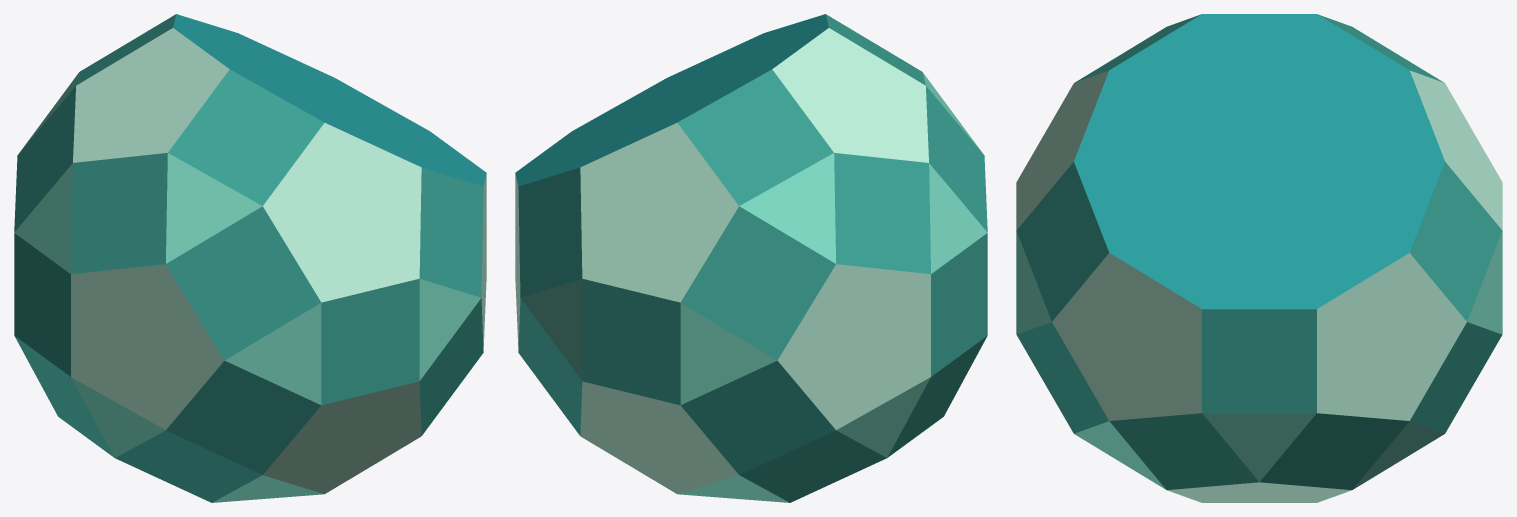
File: J77.RombicosidodecaedroParagiroideDisminuido.gltf
3 views of the same model, side by side, from view 1: azimuth 30°, elevation 25°; view 2: azimuth 150°, elevation 25°; view 3: azimuth 270°, elevation 25° (orthographic).
Visible parts, largest first — view 1: J77.RombicosidodecaedroParagiroideDisminuido; view 2: J77.RombicosidodecaedroParagiroideDisminuido; view 3: J77.RombicosidodecaedroParagiroideDisminuido.
Part boxes in pixels (x1,y1,x2,y2): J77.RombicosidodecaedroParagiroideDisminuido: [14, 14, 486, 502]; J77.RombicosidodecaedroParagiroideDisminuido: [515, 14, 987, 502]; J77.RombicosidodecaedroParagiroideDisminuido: [1016, 14, 1502, 502].
Bounding box in the file's own units: 18.97 × 19.35 × 18.97.
